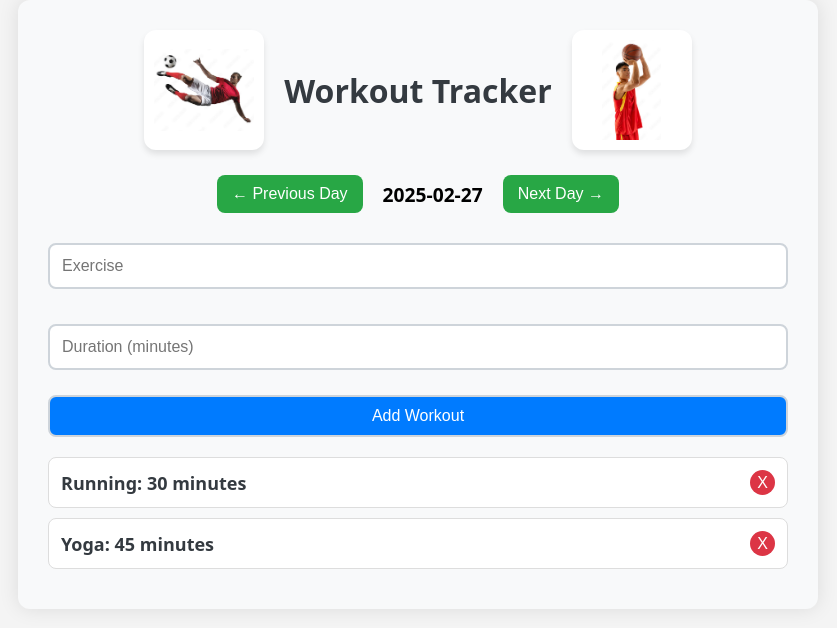
it: WorkoutTracker Component › deletes a workout
Check: the text "Running: 30 minutes" is shown, box [61,470,246,494]
Check: the text "Yoga: 45 minutes" is shown, box [61,532,214,556]
# Delete the first workout
Click the button "X" in the row of "Running".
click(762, 482)  # box [750,470,775,495]
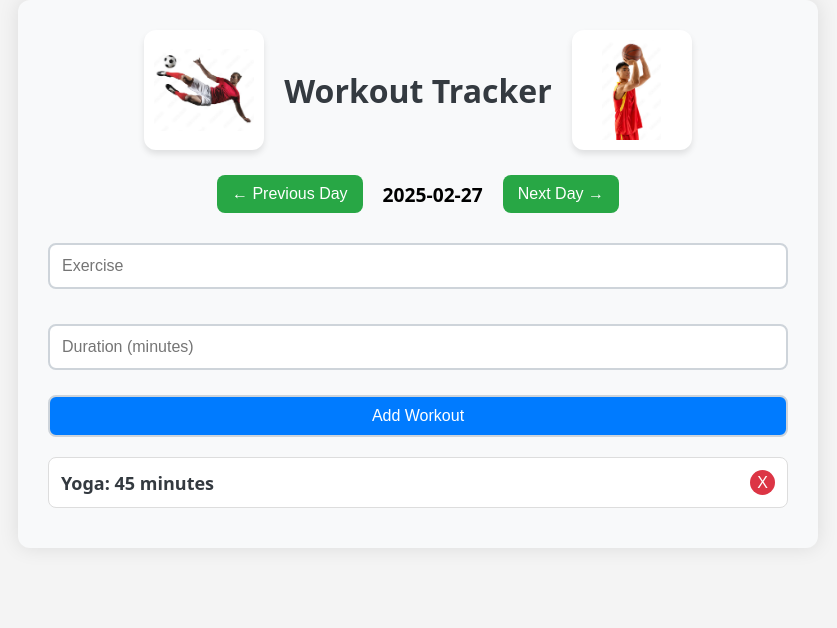
Check: the text "Yoga: 45 minutes" is shown, box [61,470,214,494]
Check: the text "Running: 30 minutes" is gone
